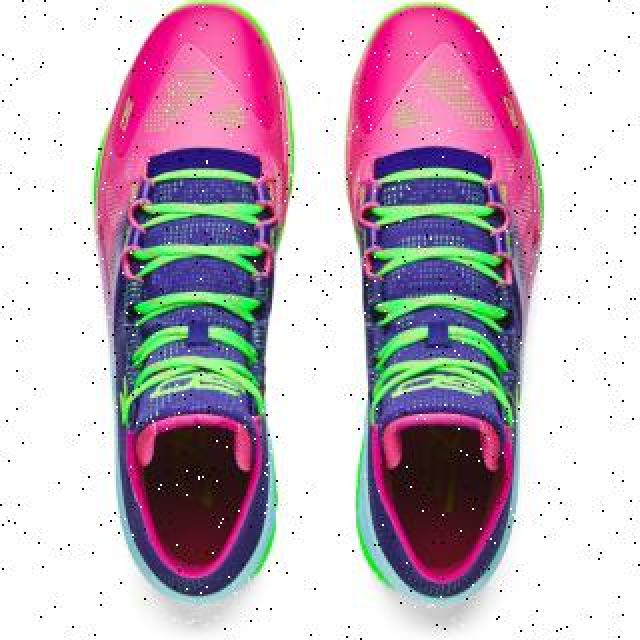shoe: (343, 0, 545, 604), (95, 1, 295, 603)
